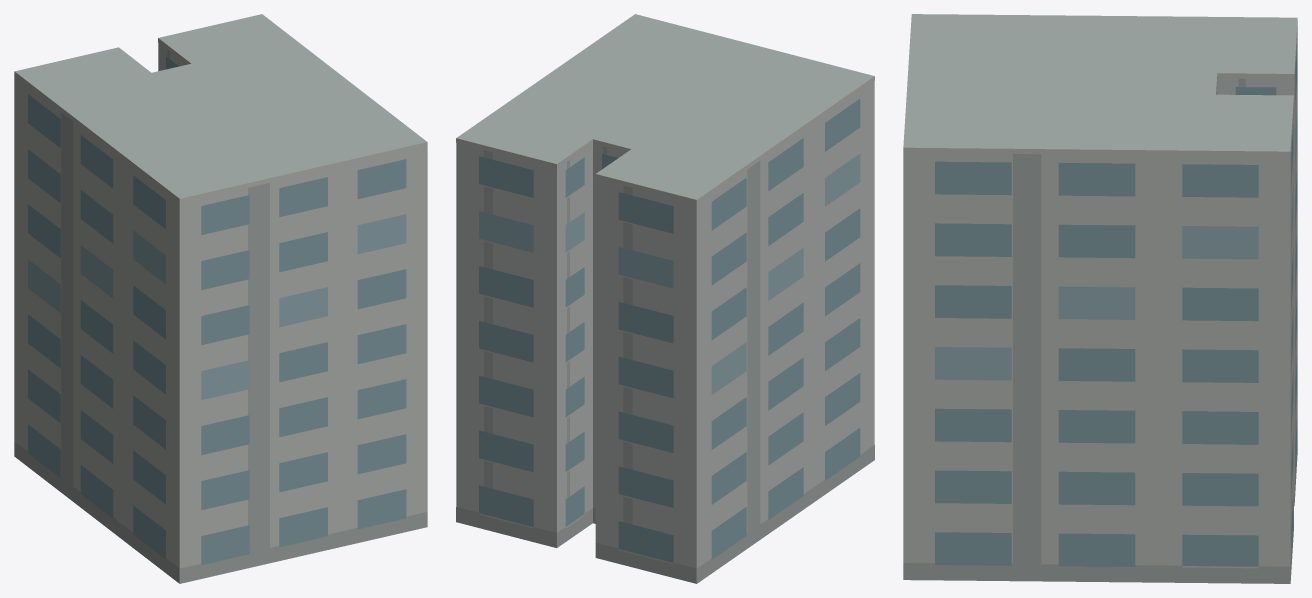
File: survey-upis-33046311.glb
The picture shows the model from 3 angles, left to right: view 1: azimuth 30°, elevation 25°; view 2: azimuth 150°, elevation 25°; view 3: azimuth 270°, elevation 25°; orthographic projection. The views are drawn at different scales.
Visible parts, largest first — view 1: survey-upis-33046311.tmp; view 2: survey-upis-33046311.tmp; view 3: survey-upis-33046311.tmp.
Part boxes in pixels (x1,y1,x2,y2): survey-upis-33046311.tmp: (14,14,427,583); survey-upis-33046311.tmp: (456,14,874,583); survey-upis-33046311.tmp: (903,14,1297,583).
Bounding box in the file's own units: 13.86 × 20.3 × 16.79.
